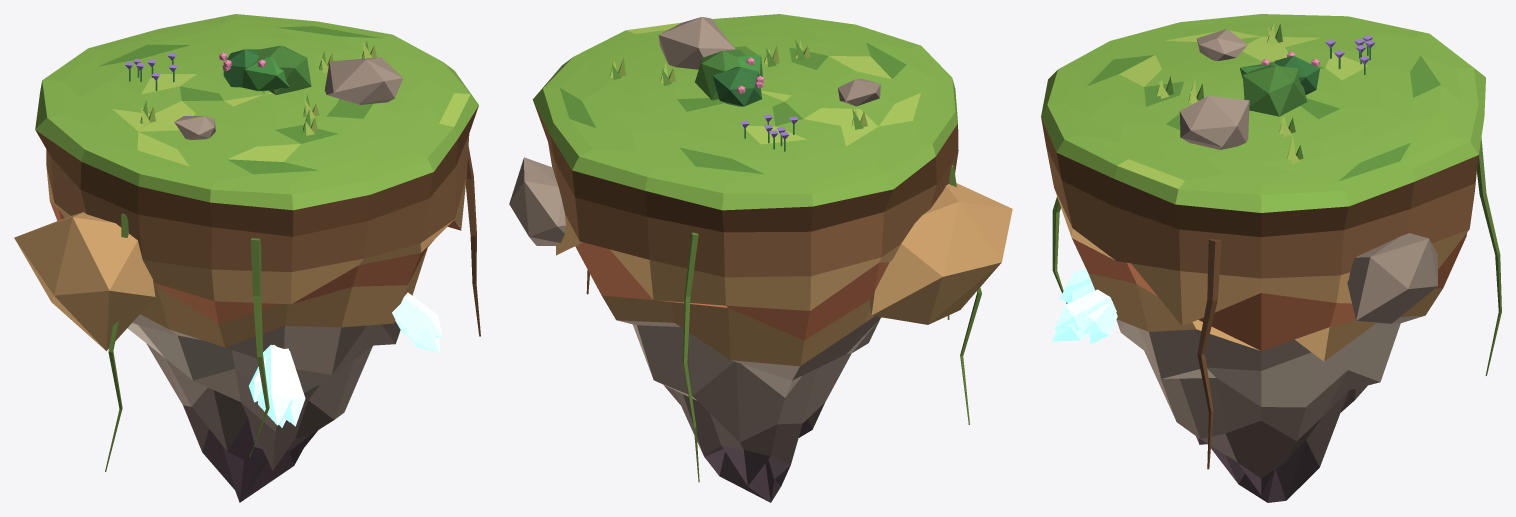
File: islet_b.glb
3 renders of one model, left to right at view 1: azimuth 30°, elevation 25°; view 2: azimuth 150°, elevation 25°; view 3: azimuth 270°, elevation 25°, orthographic. The views are drawn at different scales.
Visible parts, largest first — view 1: Island-col, Debris, Dressing, Crystals, Roots; view 2: Island-col, Debris, Dressing, Roots; view 3: Island-col, Dressing, Debris, Roots, Crystals.
Boxes of the visible parts, box(x1,y1,x2,y2) form: Island-col: box(35, 14, 478, 502); Debris: box(14, 212, 155, 350); Dressing: box(125, 40, 403, 139); Crystals: box(249, 292, 442, 427); Roots: box(105, 147, 480, 471); Island-col: box(532, 14, 958, 502); Debris: box(509, 157, 1012, 324); Dressing: box(610, 17, 880, 151); Roots: box(586, 165, 981, 482); Island-col: box(1041, 14, 1485, 502); Dressing: box(1157, 22, 1375, 163); Debris: box(1347, 233, 1437, 323); Roots: box(1052, 137, 1501, 469); Crystals: box(1052, 268, 1117, 344).
Bounding box in the file's own units: 13.39 × 13.49 × 12.26.
